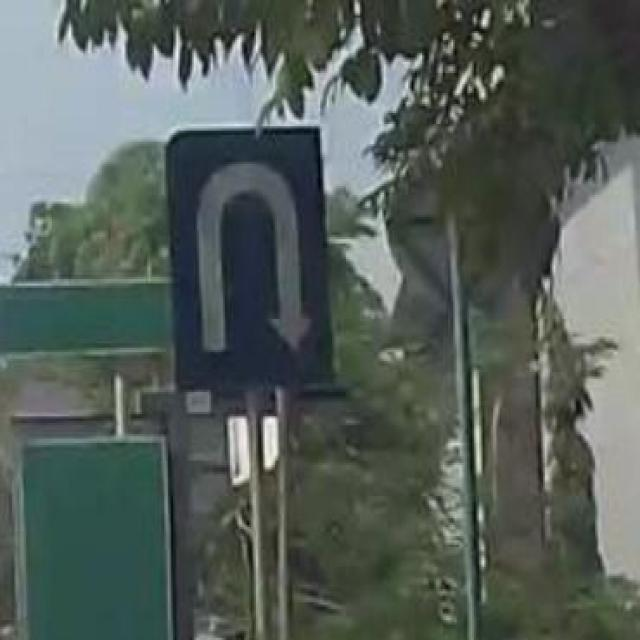traffic sign: (164, 128, 332, 390)
